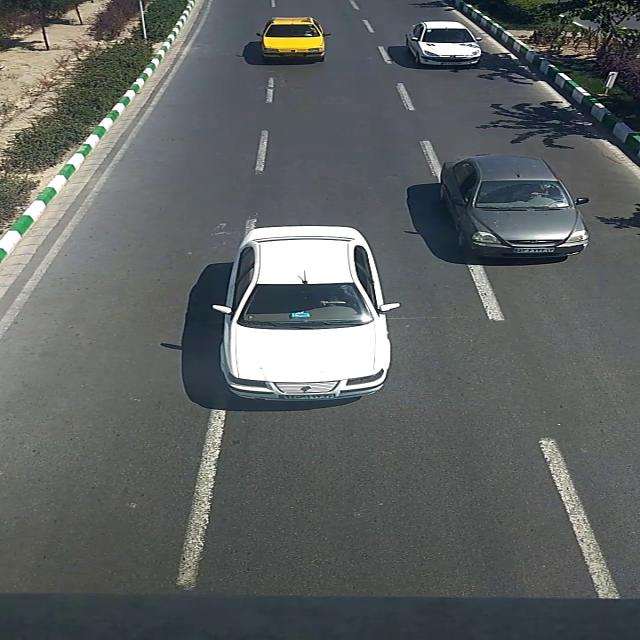car: (211, 223, 401, 401), (442, 154, 590, 262), (254, 18, 329, 64), (407, 20, 482, 66)
